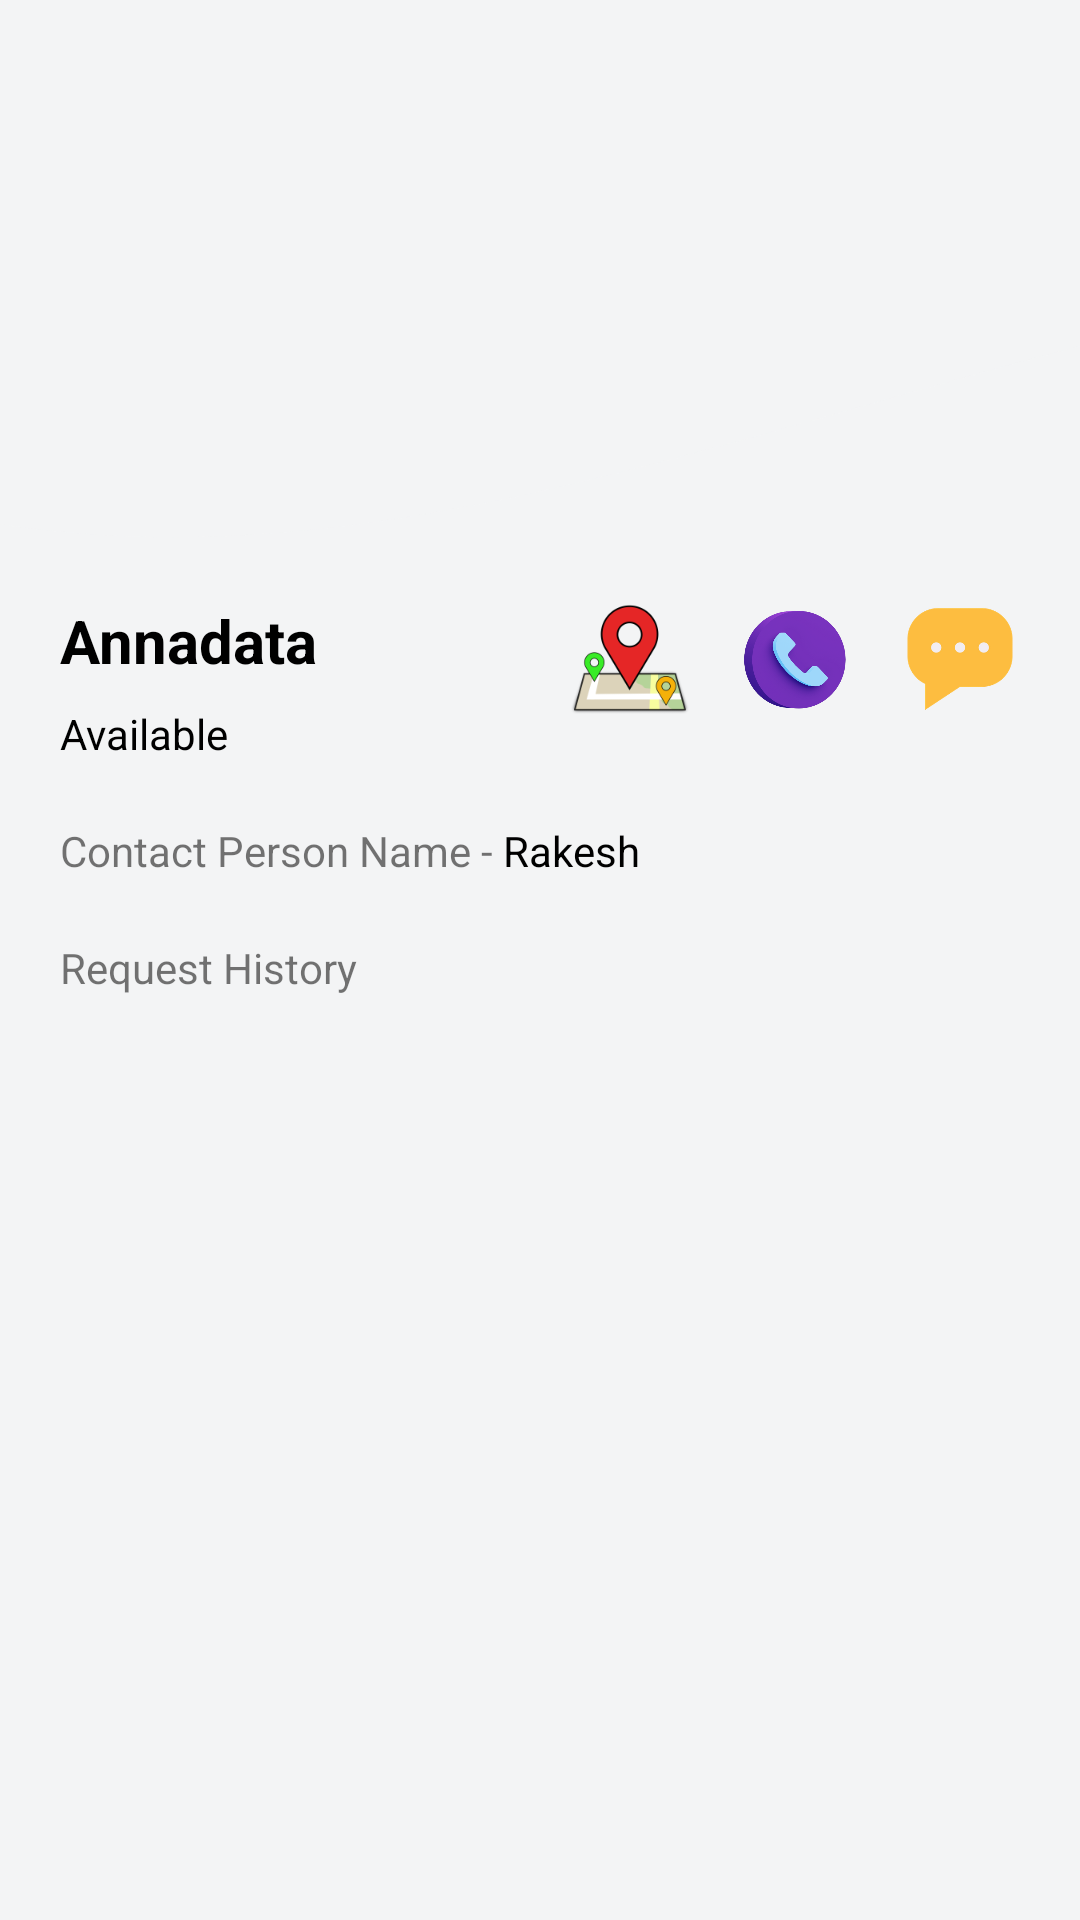

Locate icon controls on the screen. Image size 1080 x 1920, boxes as (x1, y1, x2, y2).
call: (744, 611, 846, 709)
chat: (907, 608, 1013, 710)
map: (573, 605, 687, 712)
